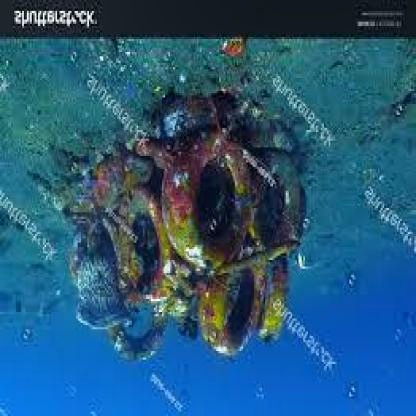tire: (157, 128, 248, 275), (202, 230, 273, 348), (116, 204, 175, 314)
